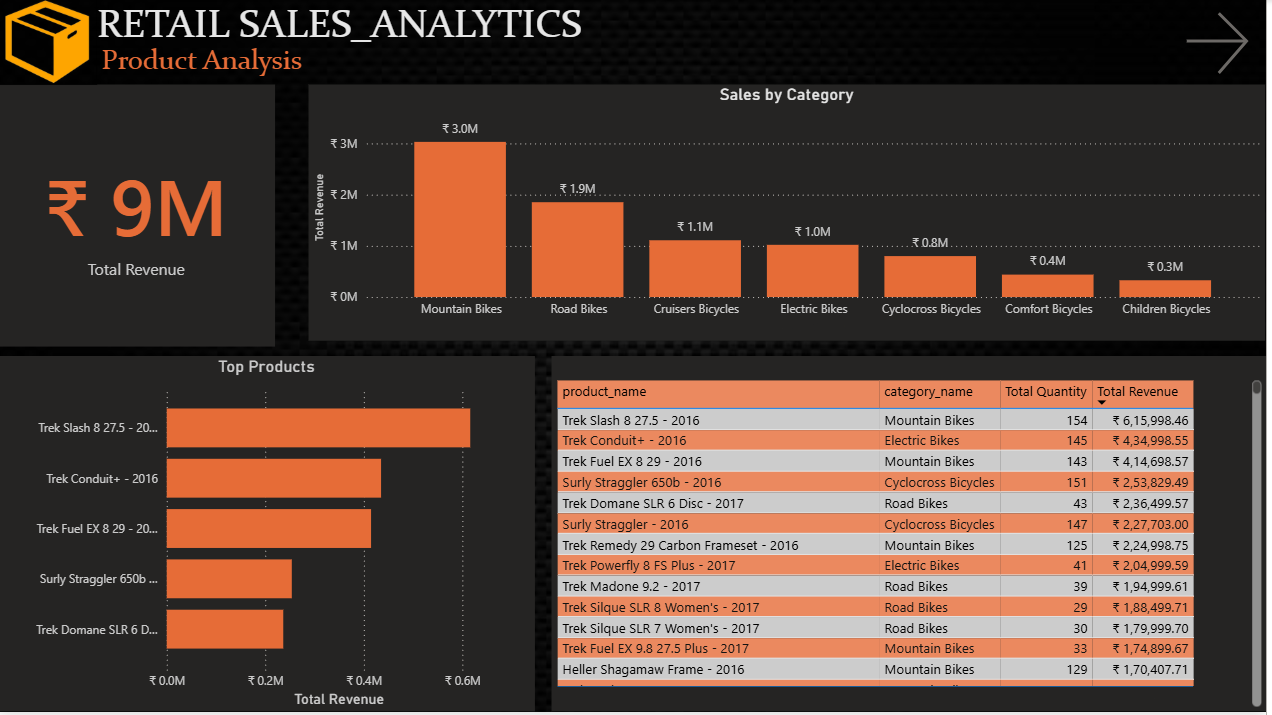

Layout of this report page (visuals, bound fields, positions):
{"tool":"powerbi","page":{"name":"product Analysis","canvas":[1280,720],"ordinal":2},"visuals":[{"type":"shape","box":[0,86.9,279.7,264.6],"z":0},{"type":"shape","box":[558.5,360.8,721.5,358.7],"z":1000},{"type":"shape","box":[0,360.8,542.2,358.7],"z":2000},{"type":"shape","box":[313.7,86.9,965.7,258.9],"z":3000},{"type":"cardVisual","fields":{"Data":["Order Items.Total Revenue"]},"box":[0,86.9,279.7,258.9],"z":4000},{"type":"clusteredColumnChart","title":"Sales by Category","fields":{"Category":["retail_sales categories.category_name"],"Y":["Order Items.Total Revenue"]},"box":[313.7,86.9,965.7,253.2],"z":5000},{"type":"clusteredBarChart","title":"Top Products","fields":{"Category":["retail_sales products.product_name"],"Y":["Order Items.Total Revenue"]},"box":[0,360.8,542.2,358.7],"z":6000},{"type":"tableEx","title":"Product Revenue","fields":{"Values":["retail_sales products.product_name","retail_sales categories.category_name","Order Items.Total Quantity","Order Items.Total Revenue"]},"box":[558.5,360.8,721.5,358.7],"z":7000},{"type":"shape","title":"RETAIL SALES_ANALYTICS","box":[100.2,0,568.8,58.6],"z":8000},{"type":"shape","title":"Product Analysis","box":[103.9,43.5,226.8,39.7],"z":9000},{"type":"image","box":[0,0,100.2,86.9],"z":10000},{"type":"actionButton","box":[1192.1,5.8,86.7,77],"z":11000}]}

Visuals, with their boxes in screenshot pixels (x1, y1, x2, y2), scaled from the page's 1280x720 canvas onto the 1272x715 screenshot:
shape: [0,86,278,349]
shape: [555,358,1271,714]
shape: [0,358,539,714]
shape: [312,86,1271,343]
cardVisual - Order Items.Total Revenue: [0,86,278,343]
"Sales by Category" clusteredColumnChart: [312,86,1271,338]
"Top Products" clusteredBarChart: [0,358,539,714]
"Product Revenue" tableEx: [555,358,1271,714]
"RETAIL SALES_ANALYTICS" shape: [100,0,665,58]
"Product Analysis" shape: [103,43,329,83]
image: [0,0,100,86]
actionButton: [1185,6,1271,82]
